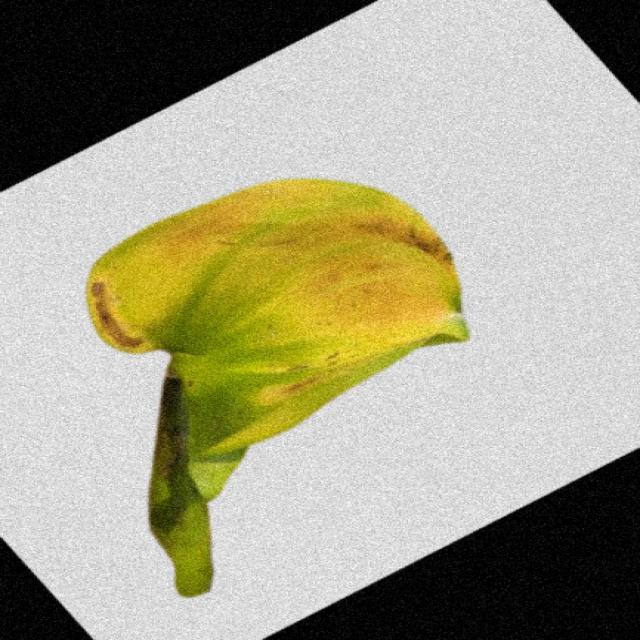daun berpenyakit kuning: (87, 179, 470, 596)
